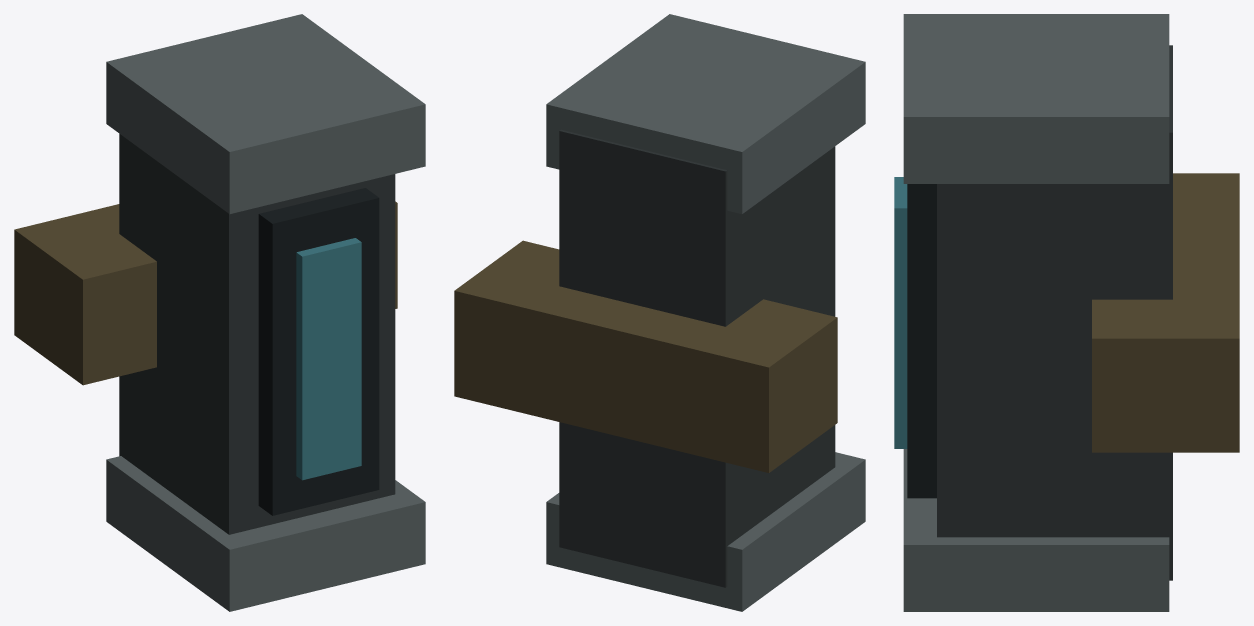
The model's file is EnergyShieldEmitter.obj.
3 views of the same model, side by side, from view 1: azimuth 30°, elevation 25°; view 2: azimuth 150°, elevation 25°; view 3: azimuth 270°, elevation 25° (orthographic). The views are drawn at different scales.
Visible parts, largest first — view 1: EnergyShieldEmitter; view 2: EnergyShieldEmitter; view 3: EnergyShieldEmitter.
Boxes of the visible parts, x1=… form: EnergyShieldEmitter: x1=14, y1=14, x2=425, y2=611; EnergyShieldEmitter: x1=454, y1=14, x2=865, y2=611; EnergyShieldEmitter: x1=894, y1=14, x2=1239, y2=611.
Bounding box in the file's own units: 0.53 × 0.74 × 0.4675.
Materials: 1 (1 with a texture image).
